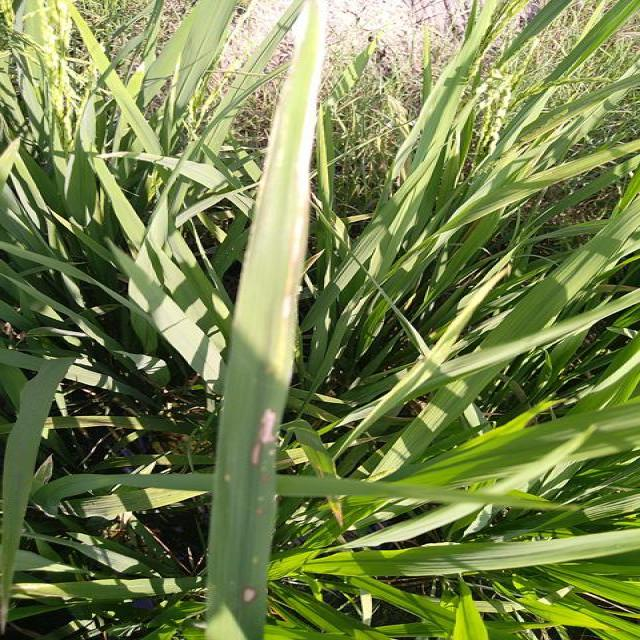Leaf Blight: (275, 55, 320, 364), (251, 407, 281, 470), (264, 113, 284, 193), (277, 85, 287, 107), (245, 589, 256, 603), (236, 559, 240, 569)
